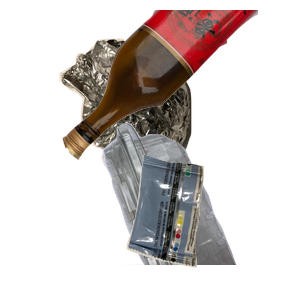glass: (60, 10, 300, 163)
metal: (57, 36, 241, 216)
plastic: (55, 120, 284, 300)
trash: (124, 152, 300, 300)
